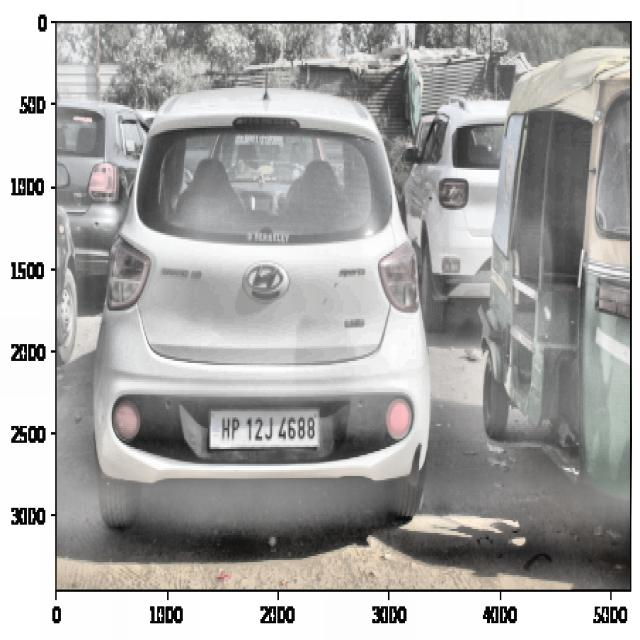license_plate: (217, 412, 323, 449)
